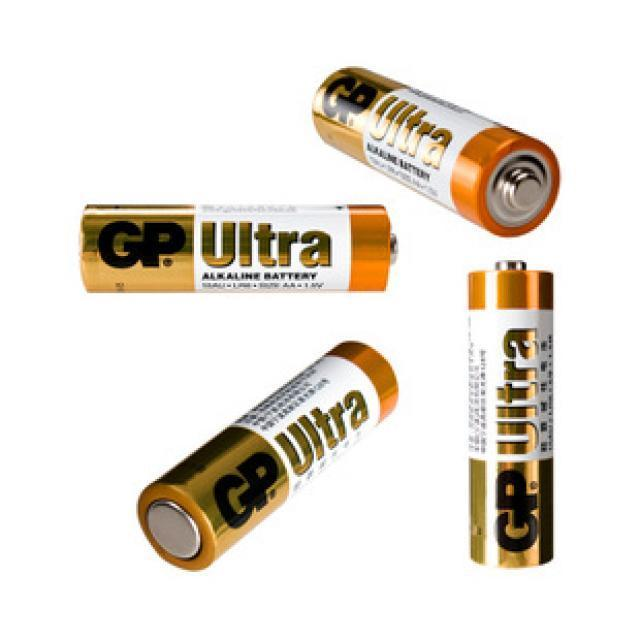AA: (136, 336, 418, 576), (312, 54, 566, 241), (71, 194, 402, 301), (463, 257, 561, 569)
